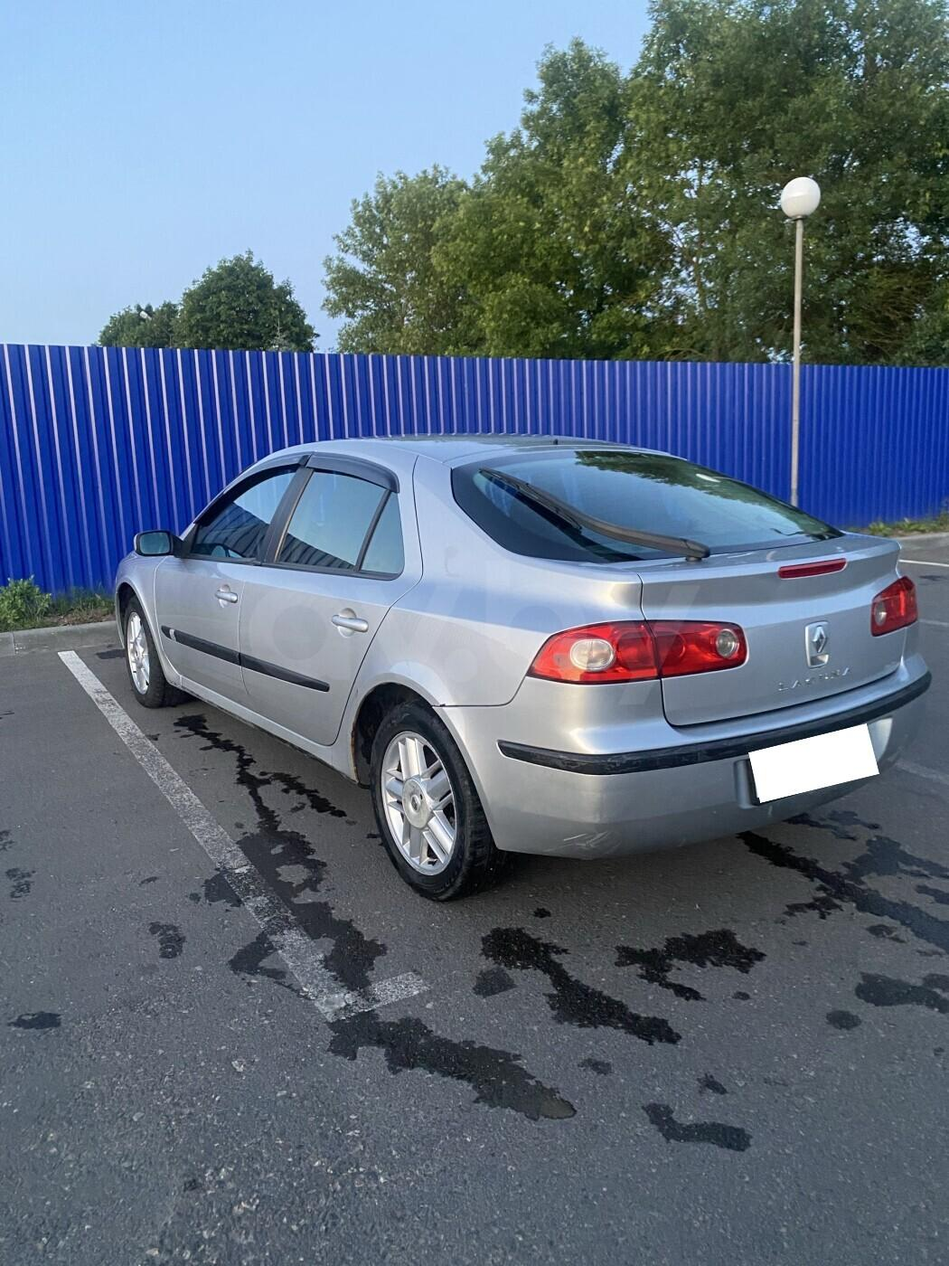Laguna_2005-2007: (114, 427, 929, 890)
